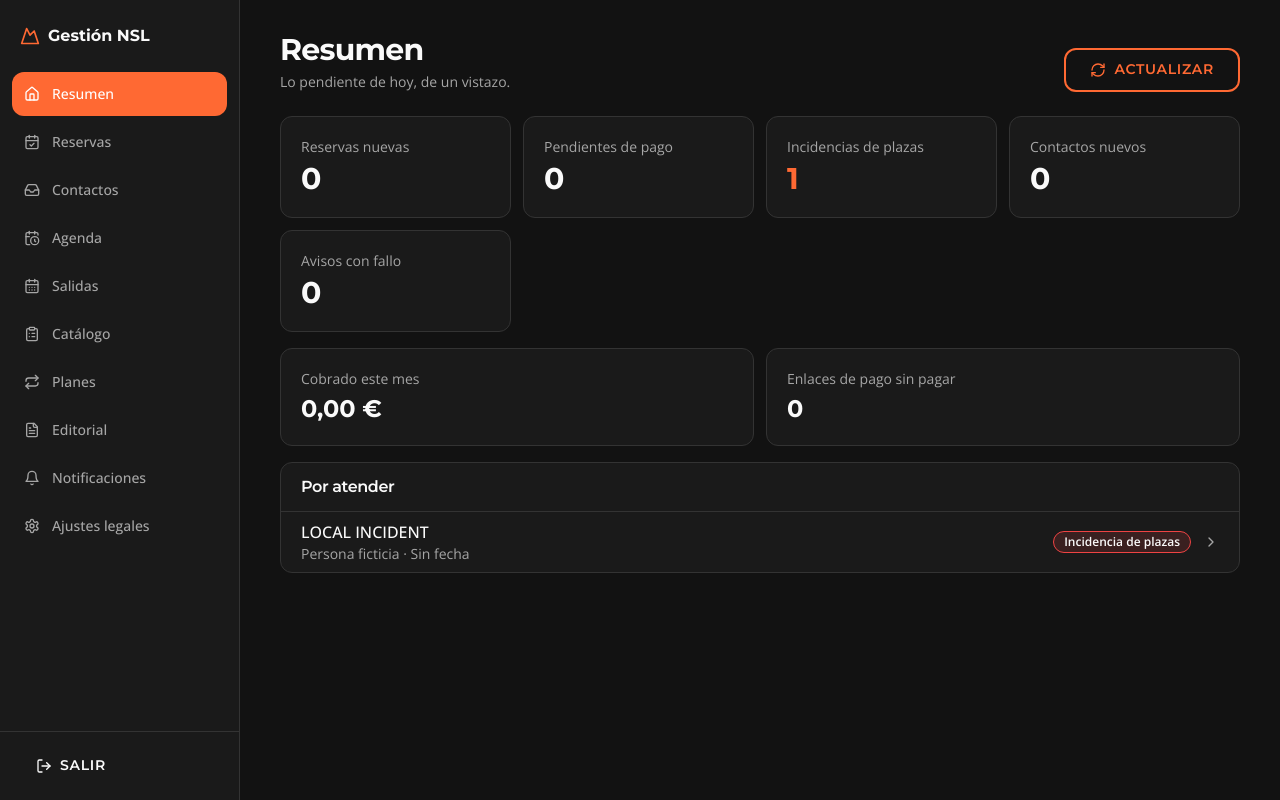
Test case: legacy confirmed booking with paid seat error is actionable, filtered and never shown as all clear
Check: the button that starts with "LOCAL INCIDENT" is shown, box [281, 512, 1239, 572]
Click the button "Incidencias de plazas 1" at (882, 167), box [766, 116, 997, 218]
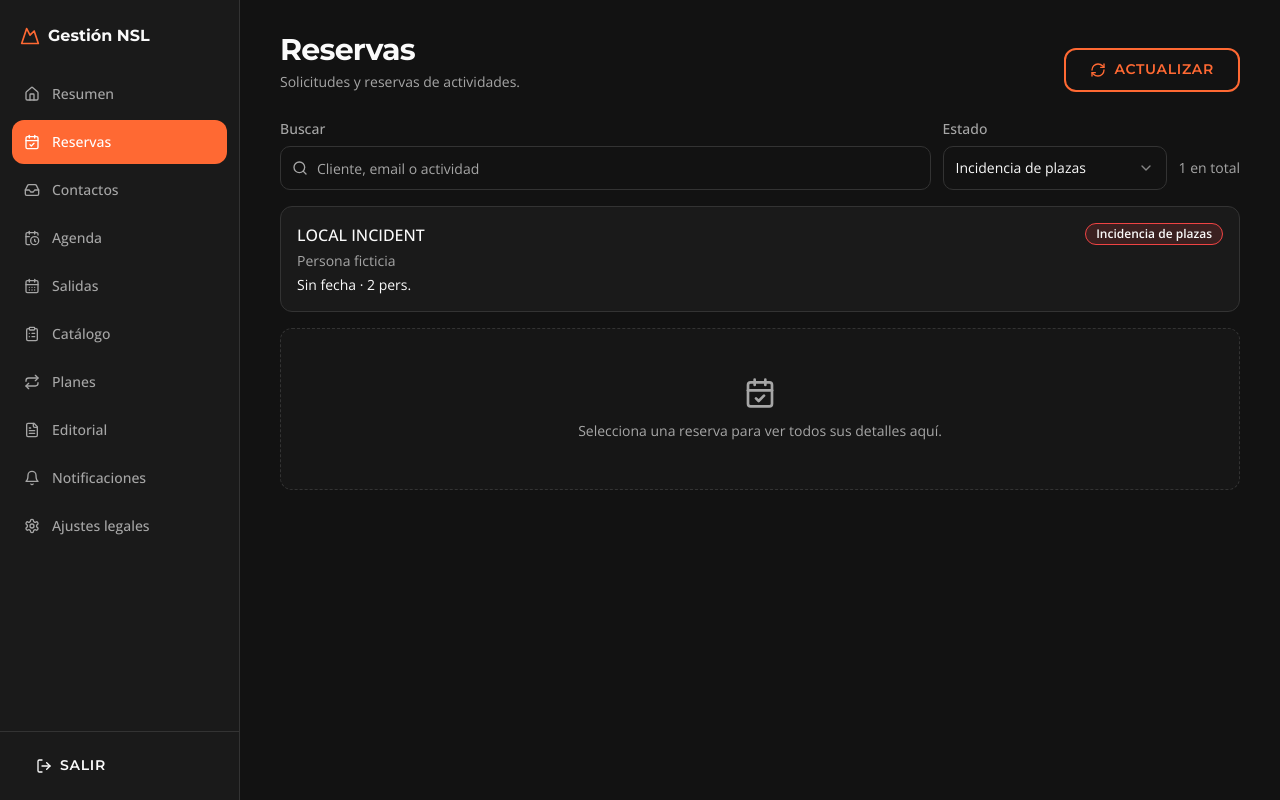
Click the button "LOCAL INCIDENT Incidencia de plazas" at (361, 235), box [280, 206, 1240, 312]
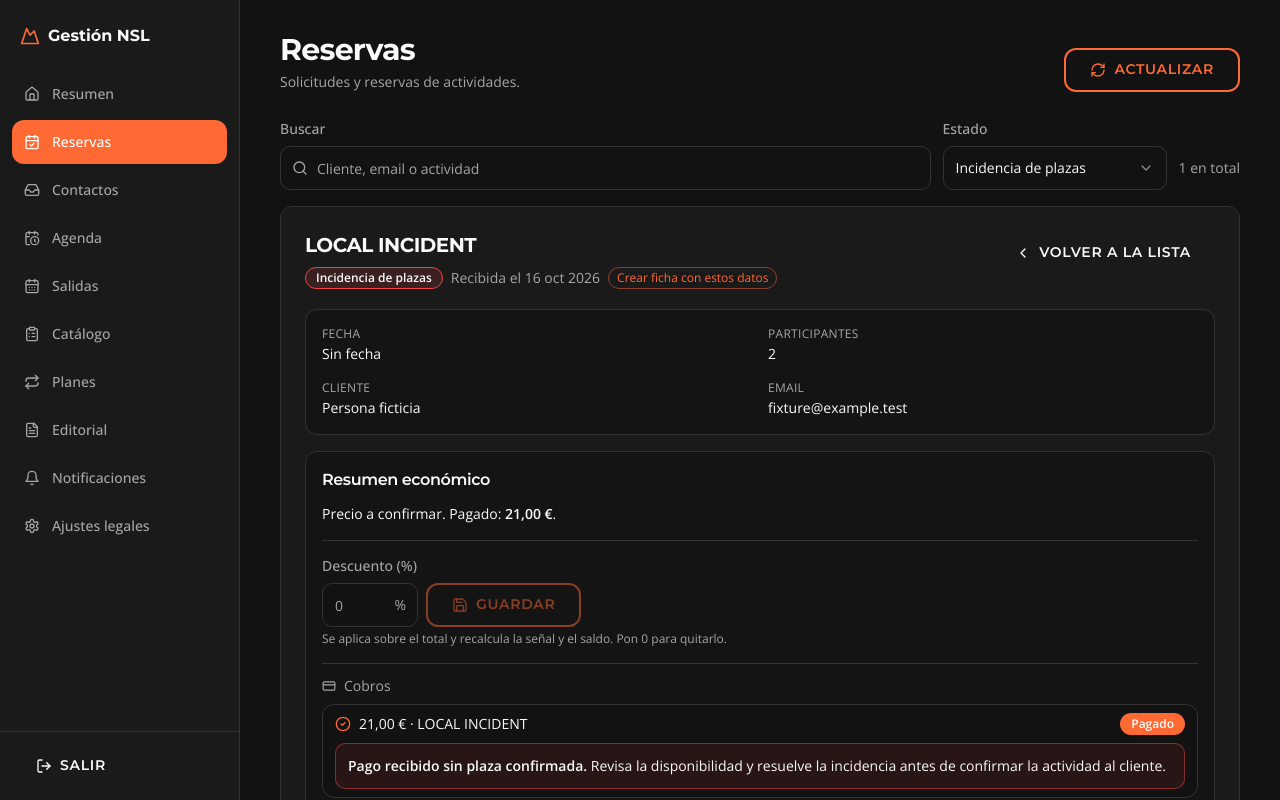
Check: the text "Pago recibido sin plaza confirmada." is shown, box [348, 756, 587, 775]
